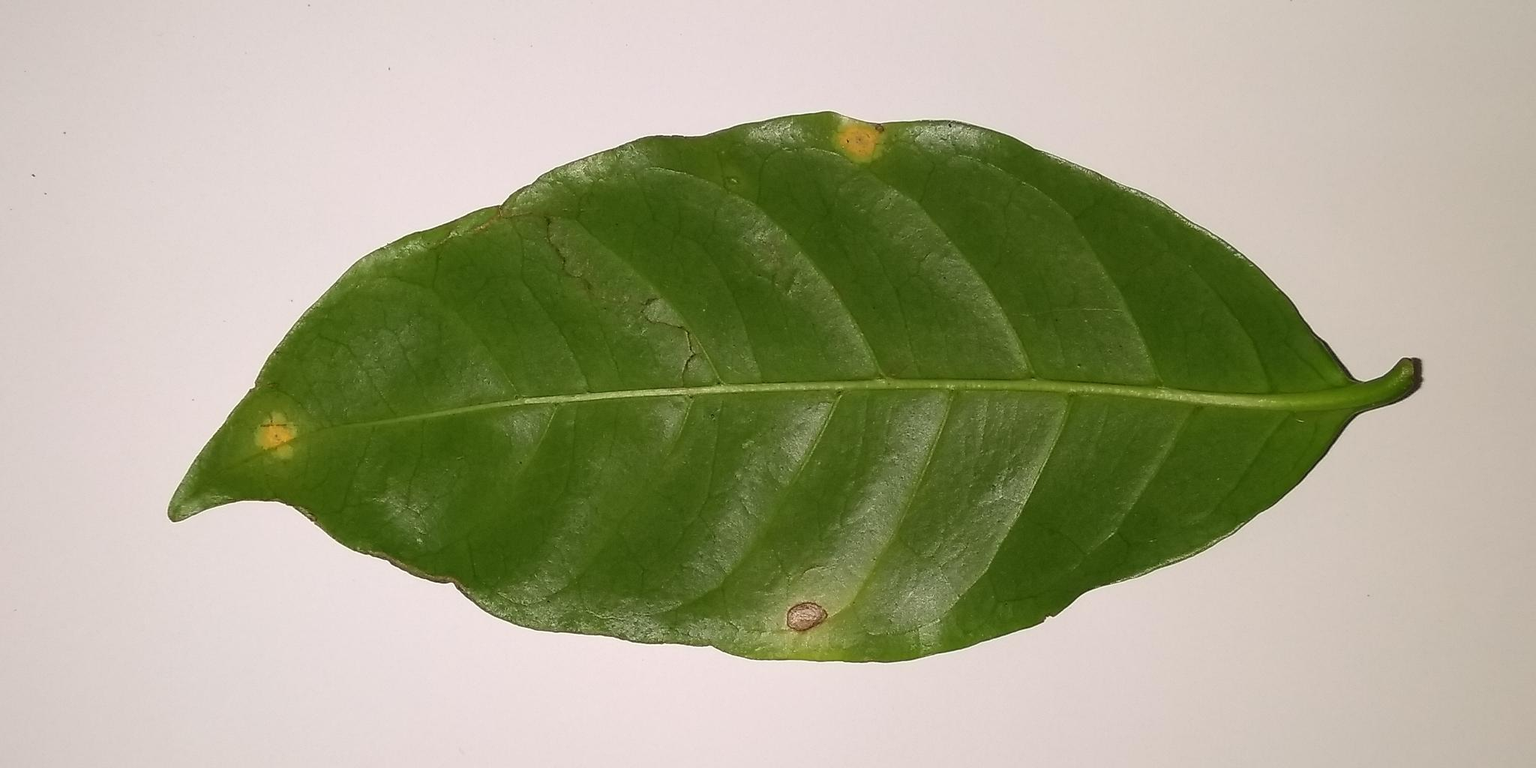Cercospora: (767, 576, 846, 651)
Rust: (818, 102, 894, 174)
